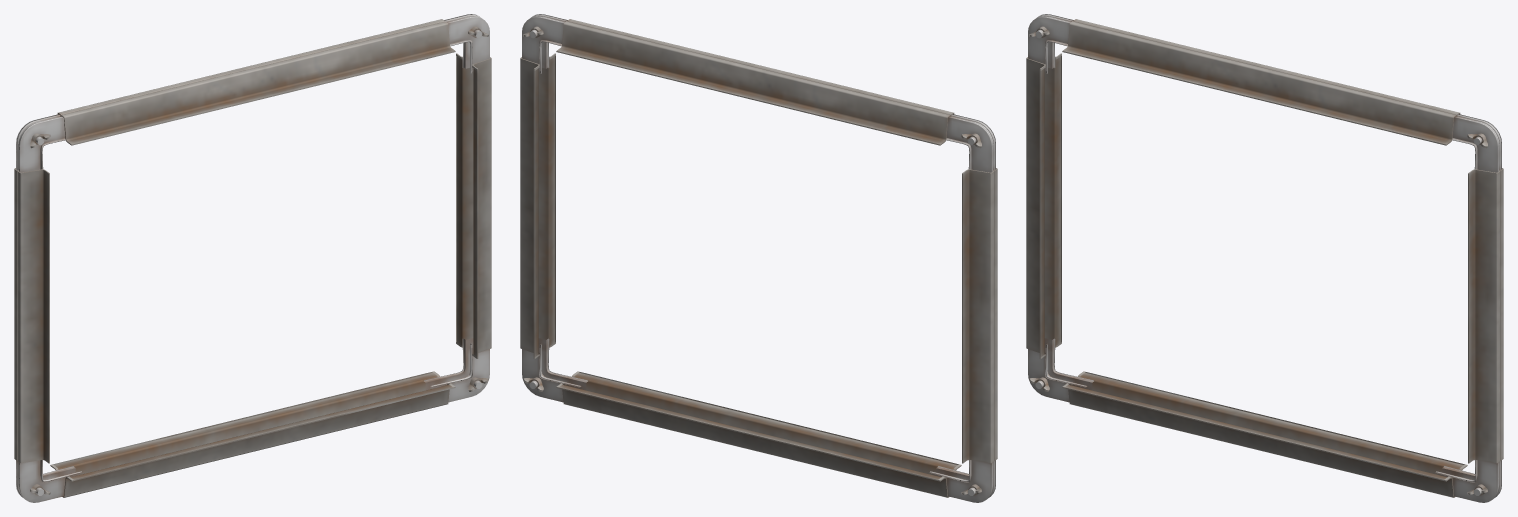
File: fastener_01.025.glb
The picture shows the model from 3 angles, left to right: view 1: azimuth 30°, elevation 25°; view 2: azimuth 150°, elevation 25°; view 3: azimuth 330°, elevation 25°; orthographic projection.
Parts seen in each view (by area): view 1: modular_airduct_rectangular_01_fastener_01.001; view 2: modular_airduct_rectangular_01_fastener_01.001; view 3: modular_airduct_rectangular_01_fastener_01.001.
Part boxes in pixels (x1,y1,x2,y2): modular_airduct_rectangular_01_fastener_01.001: (14, 14, 491, 502); modular_airduct_rectangular_01_fastener_01.001: (520, 14, 997, 502); modular_airduct_rectangular_01_fastener_01.001: (1026, 14, 1503, 502).
Bounding box in the file's own units: 0.6634 × 0.5126 × 0.0519.
1 material, 1 textured.
